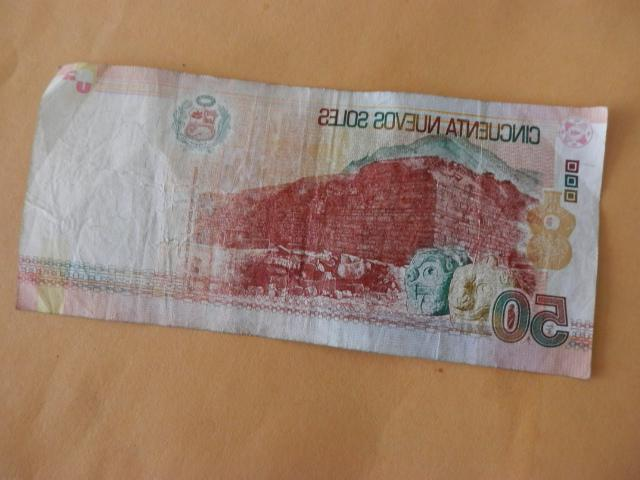B50: (19, 63, 609, 379)
